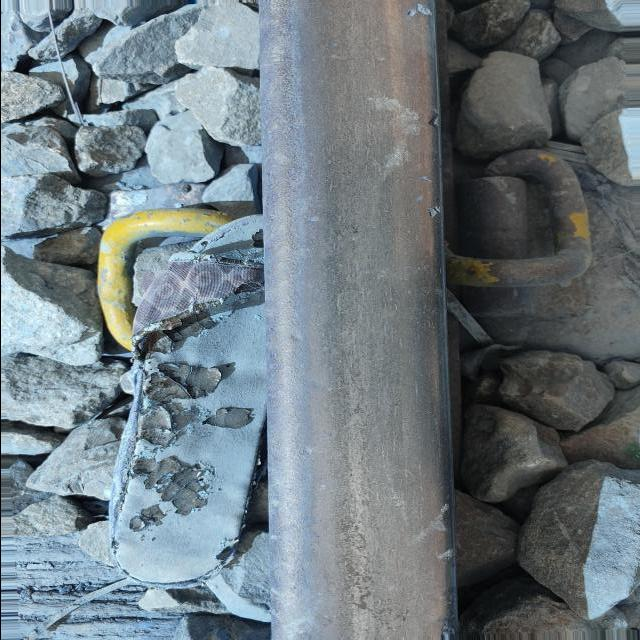broken_rail_medium: (402, 4, 432, 17), (434, 624, 451, 640), (425, 203, 441, 219), (423, 111, 438, 128)
